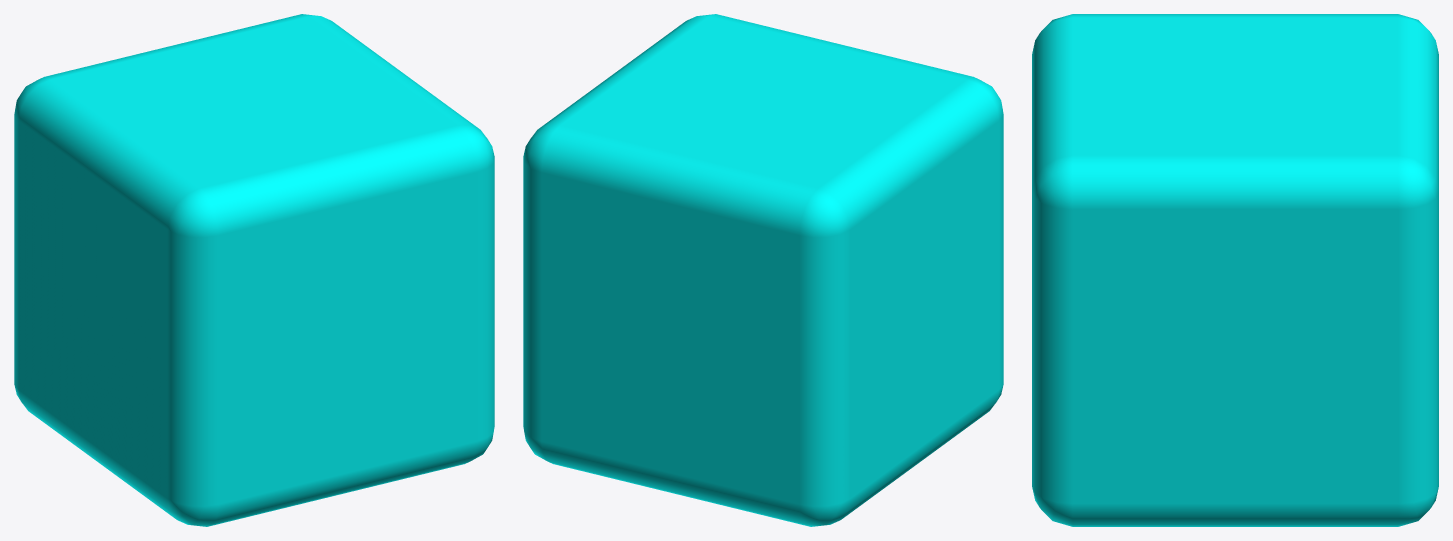
The picture shows the model from 3 angles, left to right: view 1: azimuth 30°, elevation 25°; view 2: azimuth 150°, elevation 25°; view 3: azimuth 270°, elevation 25°; orthographic projection. The views are drawn at different scales.
Parts seen in each view (by area): view 1: Cube (Change color here pls); view 2: Cube (Change color here pls); view 3: Cube (Change color here pls).
Part boxes in pixels (x1=…): Cube (Change color here pls): x1=14, y1=14, x2=494, y2=526; Cube (Change color here pls): x1=523, y1=14, x2=1003, y2=526; Cube (Change color here pls): x1=1032, y1=14, x2=1438, y2=526.
Size of the model in its own units: 1 by 0.9954 by 0.9985.
